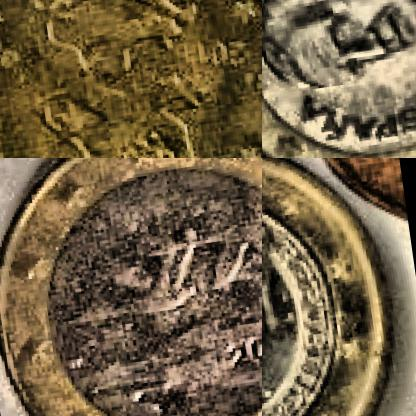coin: (0, 158, 261, 415), (0, 0, 261, 157), (262, 158, 415, 415), (262, 0, 415, 157)
